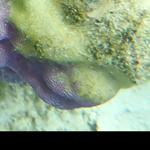dead: (1, 8, 148, 128)
